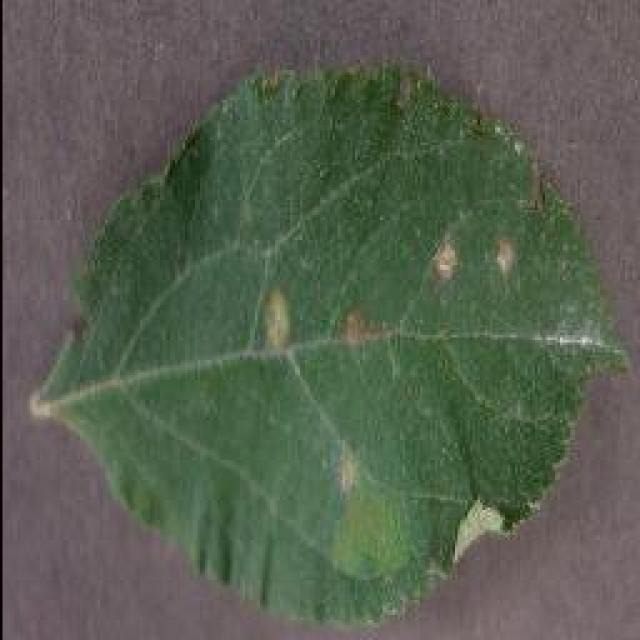apple healthy: (28, 55, 632, 630)
